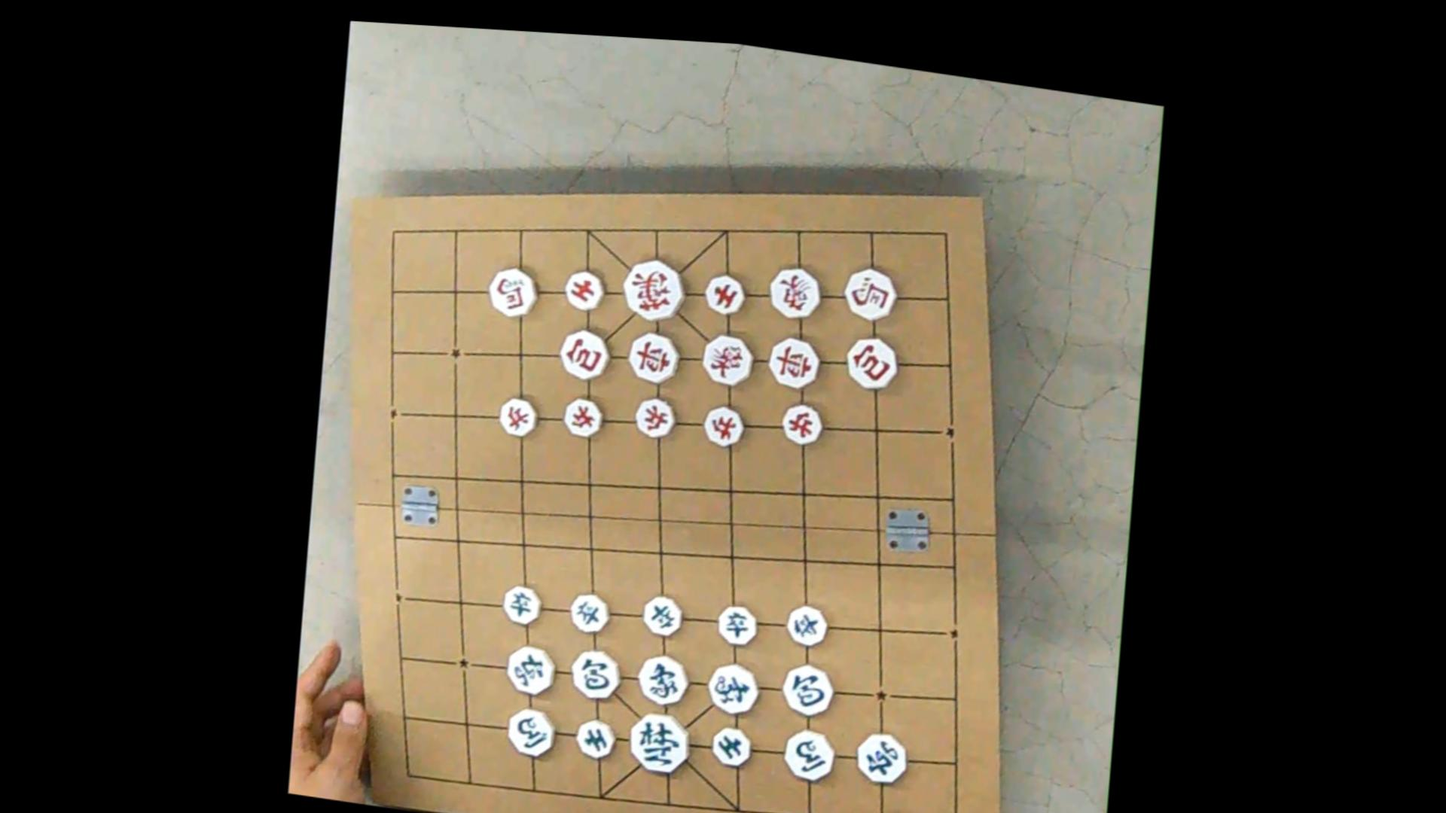cha_green: (854, 730, 908, 785), (505, 641, 557, 697)
cha_red: (767, 334, 822, 390), (627, 330, 682, 385)
jol_green: (786, 602, 828, 647), (569, 590, 611, 634), (642, 594, 683, 638), (718, 603, 758, 647), (502, 583, 542, 625)
jol_red: (782, 402, 825, 447), (634, 395, 677, 440), (703, 404, 745, 448), (499, 395, 539, 439), (563, 396, 604, 438)
ma_green: (783, 727, 835, 782), (505, 705, 558, 758)
ma_red: (844, 265, 898, 321), (487, 266, 539, 318)
po_green: (782, 662, 834, 717), (571, 648, 622, 702)
po_red: (845, 333, 899, 390), (559, 326, 611, 382)
sa_green: (575, 715, 618, 760), (711, 725, 752, 768)
sa_red: (563, 267, 606, 312), (703, 272, 746, 315)
sang_green: (706, 660, 761, 716), (636, 653, 691, 707)
sang_red: (767, 262, 824, 321), (702, 331, 755, 387)
wang_green: (627, 708, 692, 776)
wang_red: (621, 253, 688, 324)
